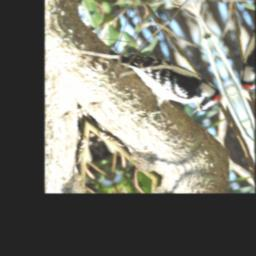Woodpecker: (117, 29, 225, 132)
